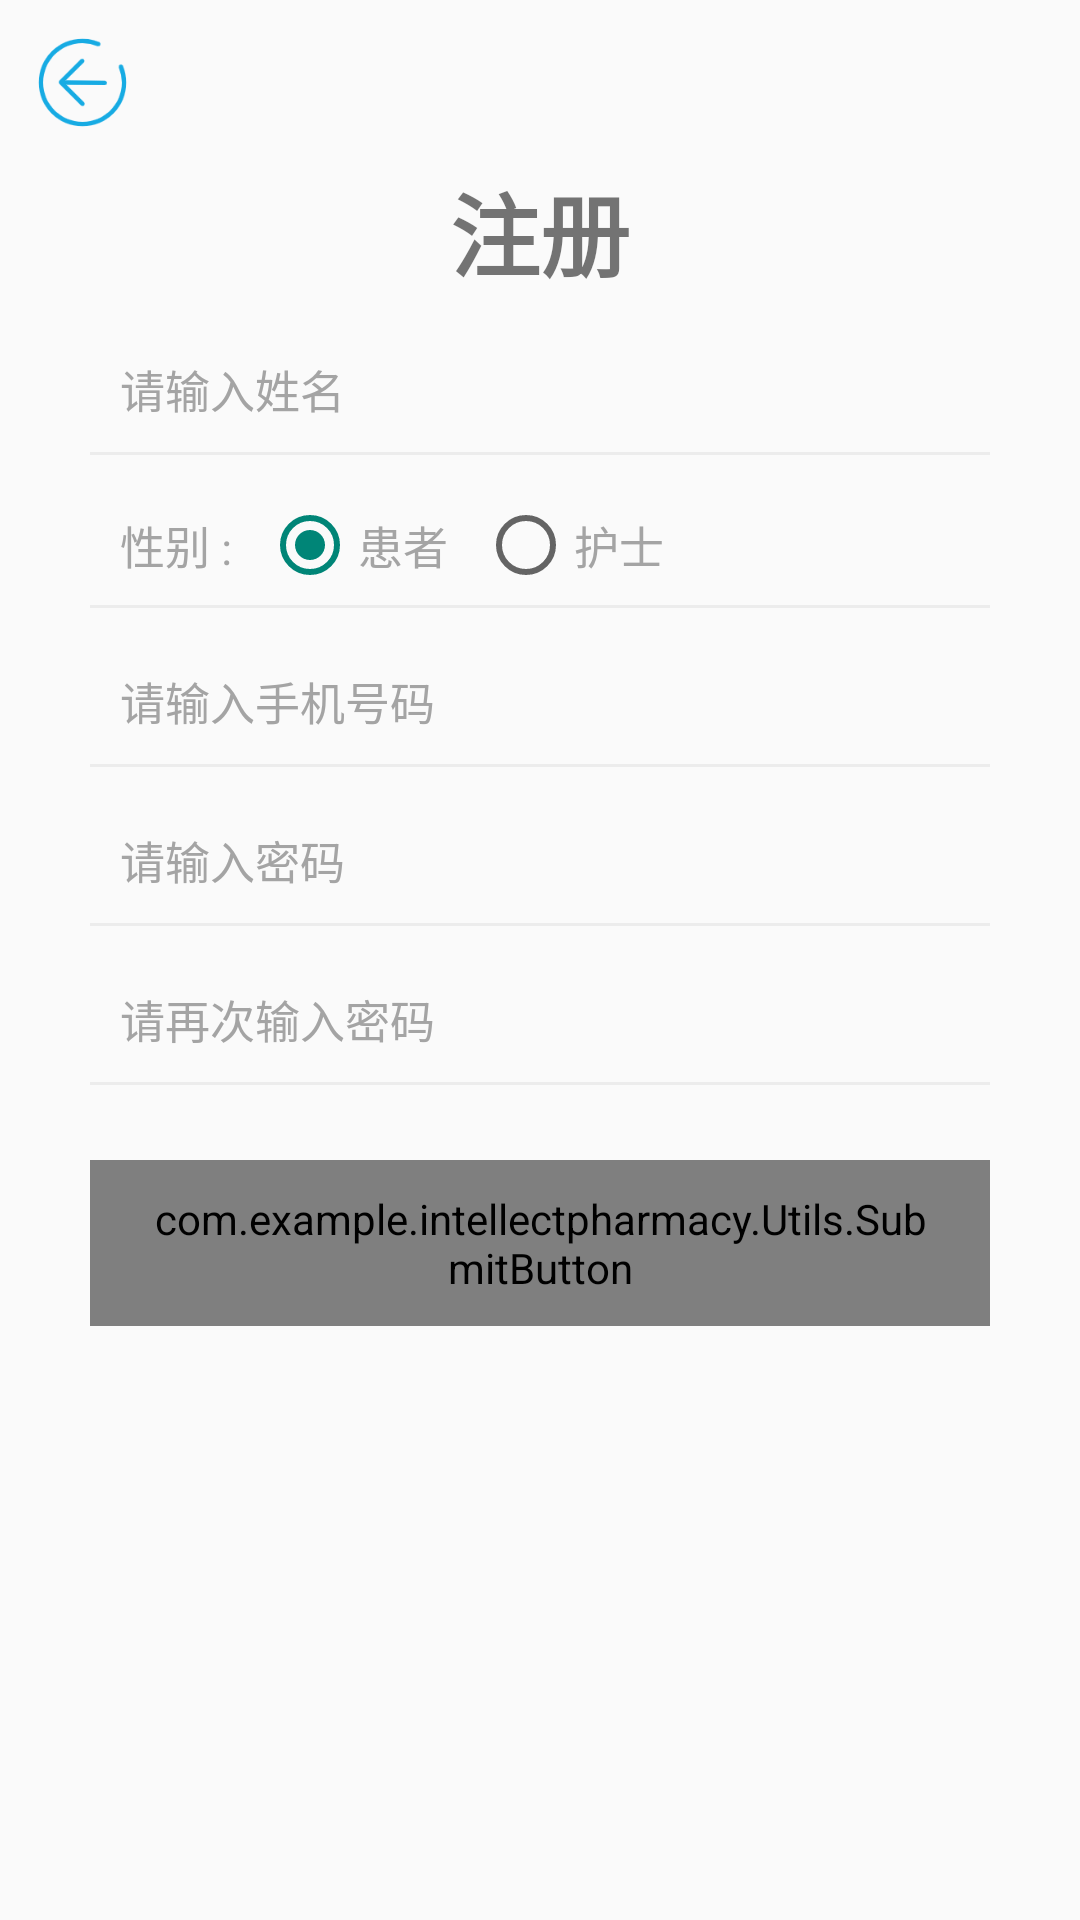

Icon bounding boxes for this 1080*1920 phone screenshot, format (x1, y1, x2, y2):
back: (38, 38, 127, 127)
